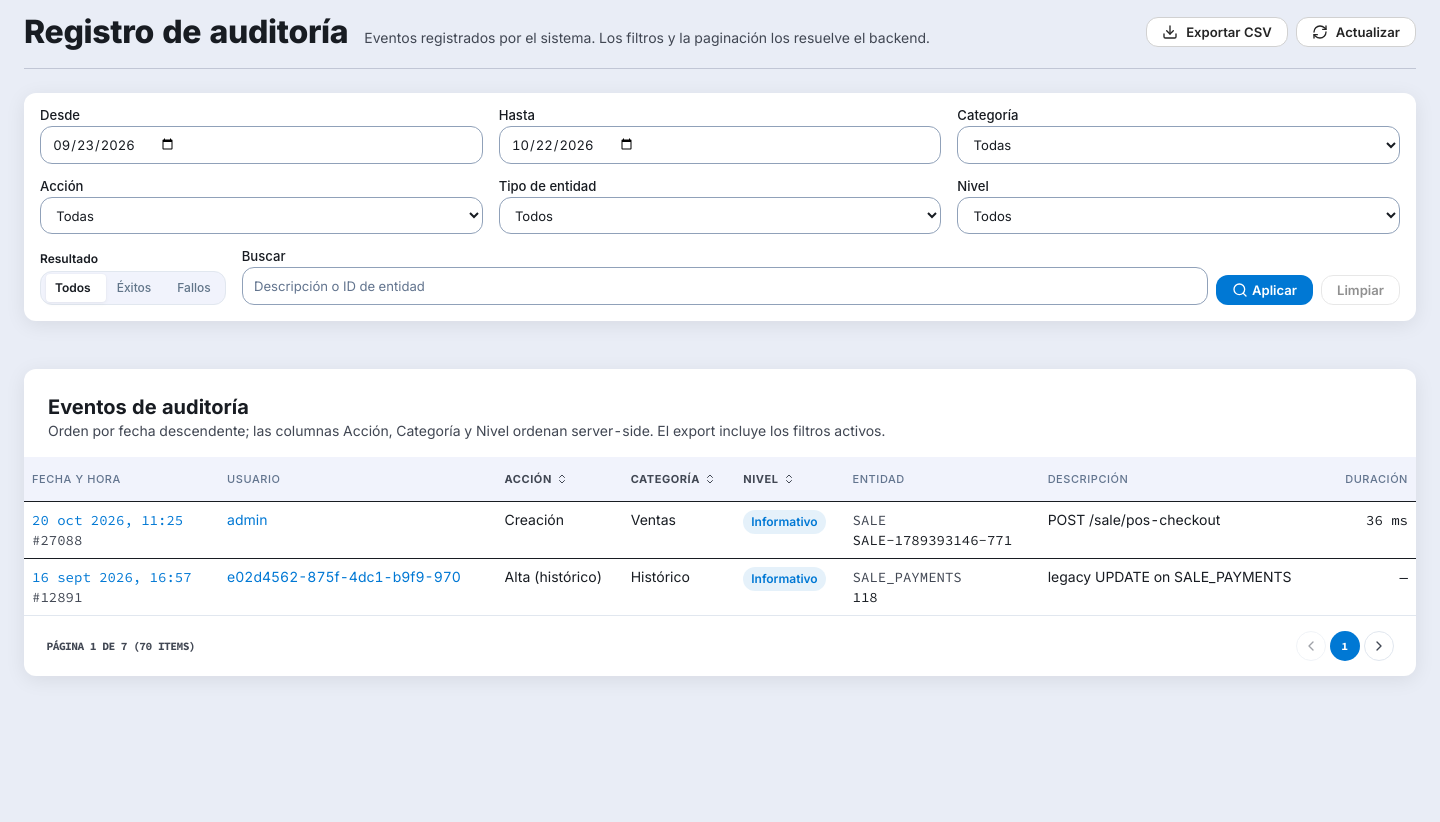
Test: AuditLogsPage (F10) › aplica el texto con Enter y lo recorta; Limpiar vuelve al rango inicial
Check: the table with test id "audit-logs-table" is shown, box [24, 457, 1416, 615]
Type "  pos-checkout  " into the search field with placeholder "Descripción o ID de entidad" at (725, 286), box [242, 267, 1208, 305]
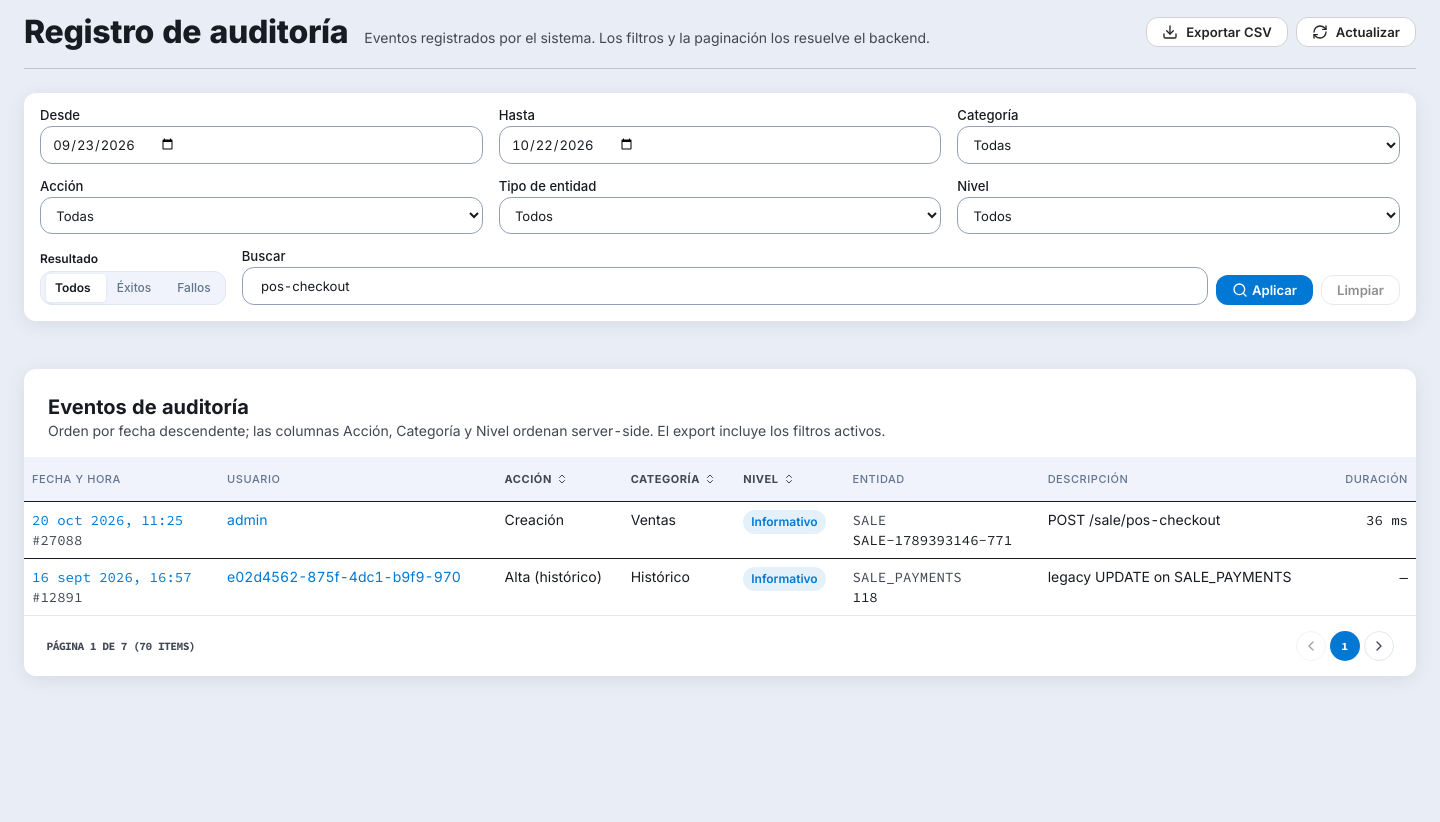
Press Enter in the search field with placeholder "Descripción o ID de entidad", box [242, 267, 1208, 305]
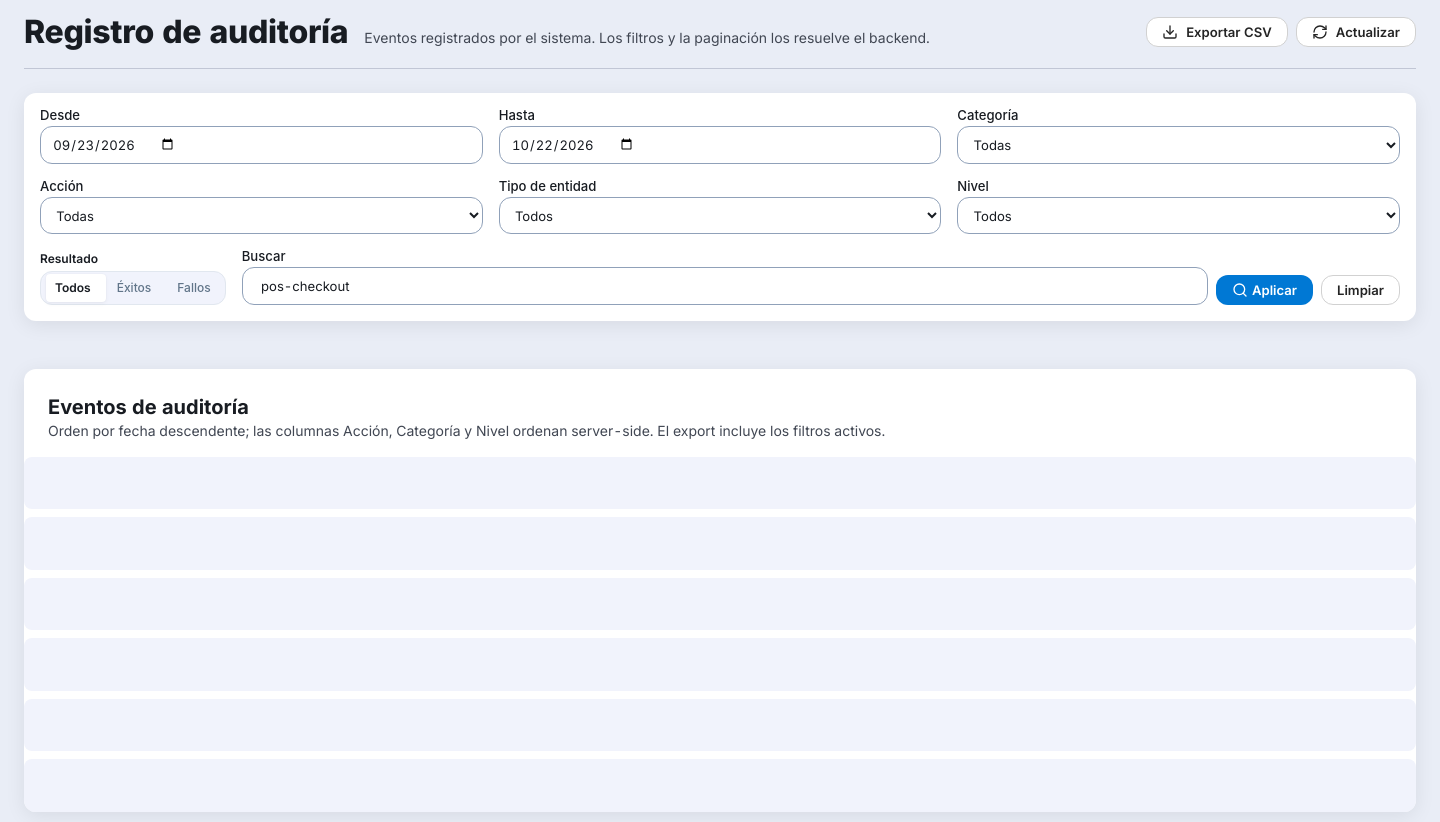
Click the button "Limpiar" at (1360, 290), box [1321, 275, 1400, 305]
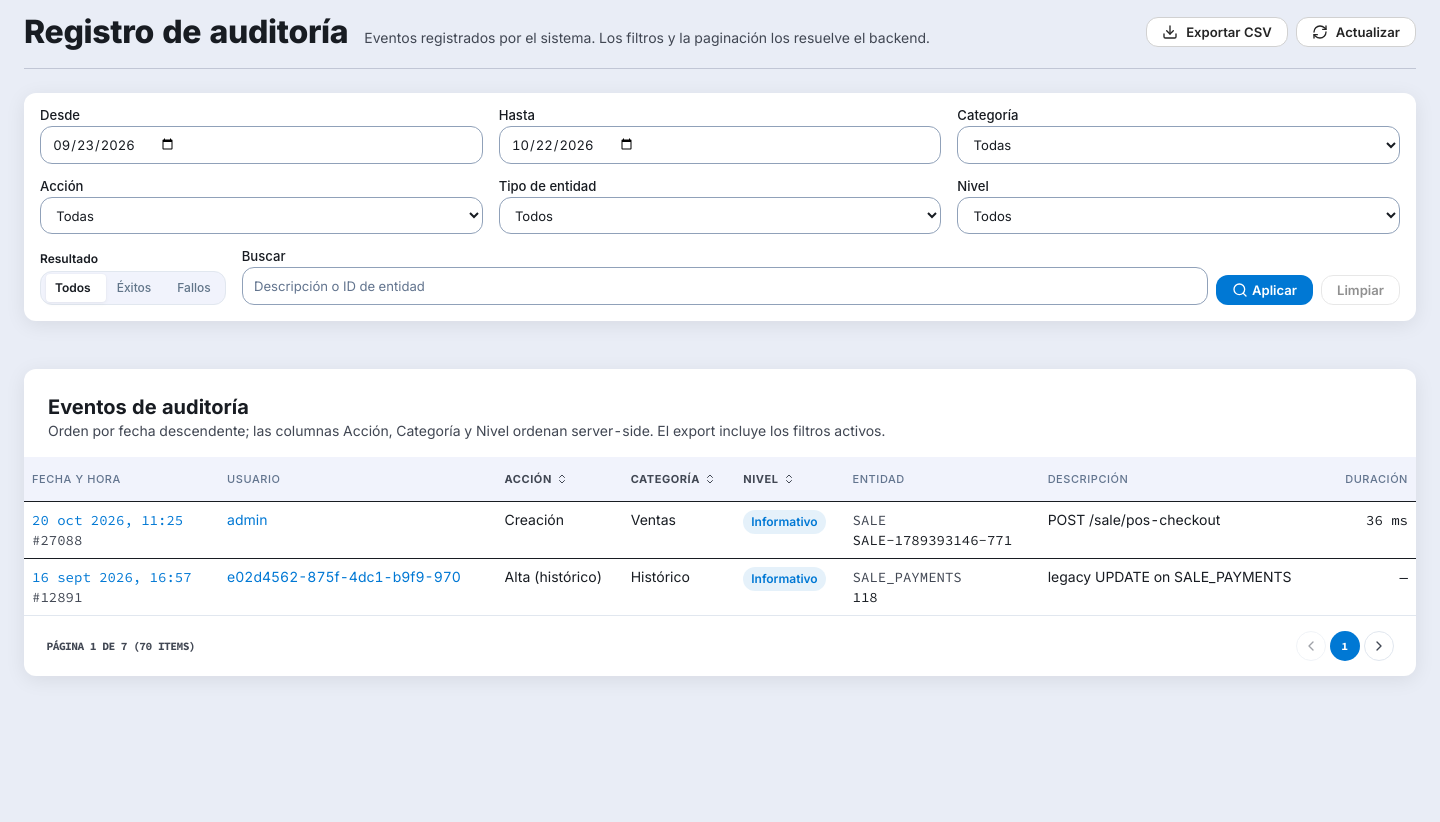
Check: the search field with placeholder "Descripción o ID de entidad" is empty, box [242, 267, 1208, 305]
Check: the button "Limpiar" is disabled, box [1321, 275, 1400, 305]
